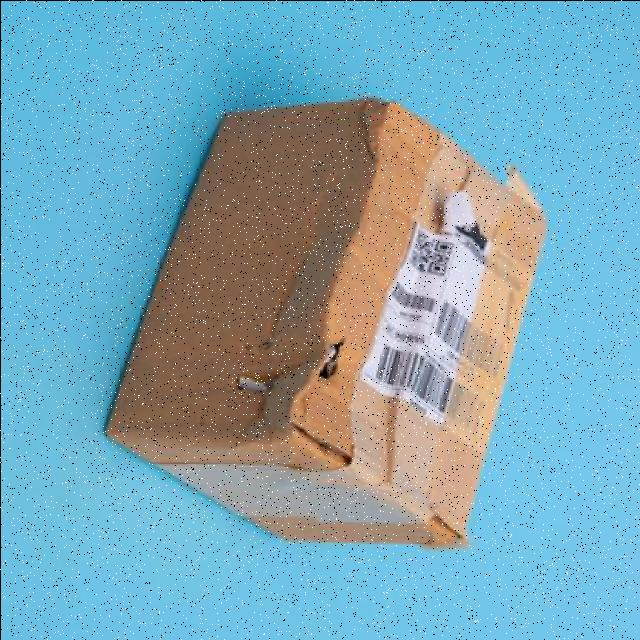defect: (100, 95, 552, 554)
